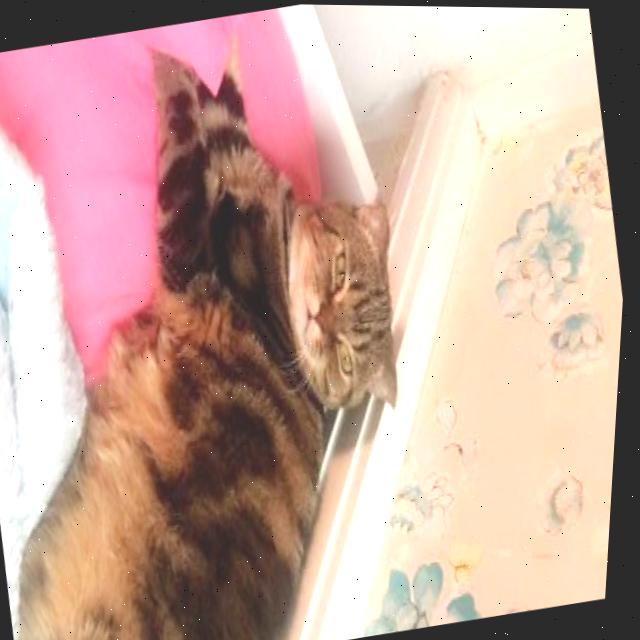Scottish Fold: (0, 0, 480, 640)
